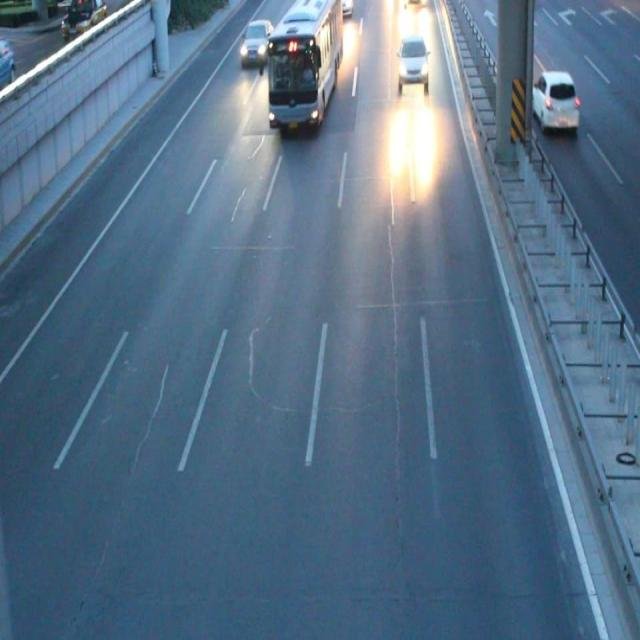car: (530, 72, 578, 131), (238, 20, 270, 64), (396, 41, 429, 83), (328, 1, 352, 17)
van: (268, 1, 342, 129)
